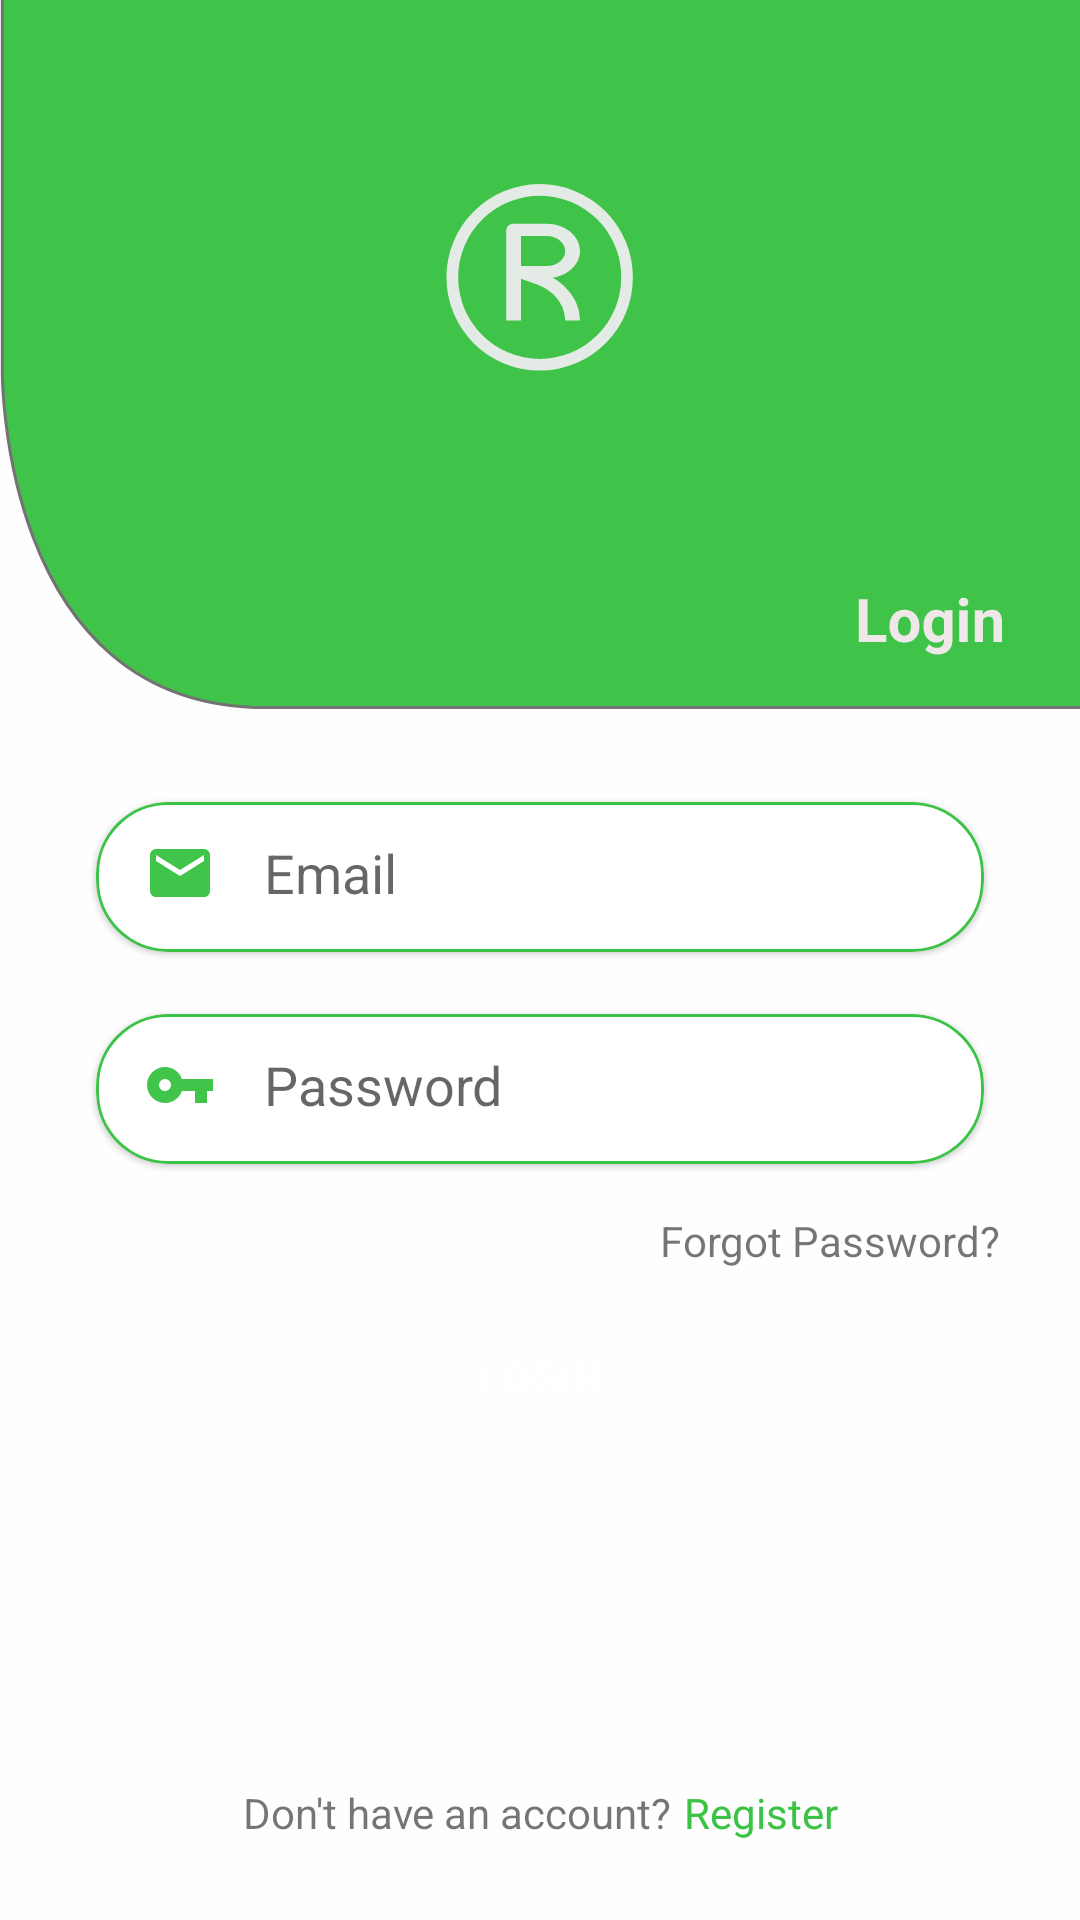

Icon click points for this 1080px×1920px phone screenshot, format [x,y]:
key: [180,1085]
